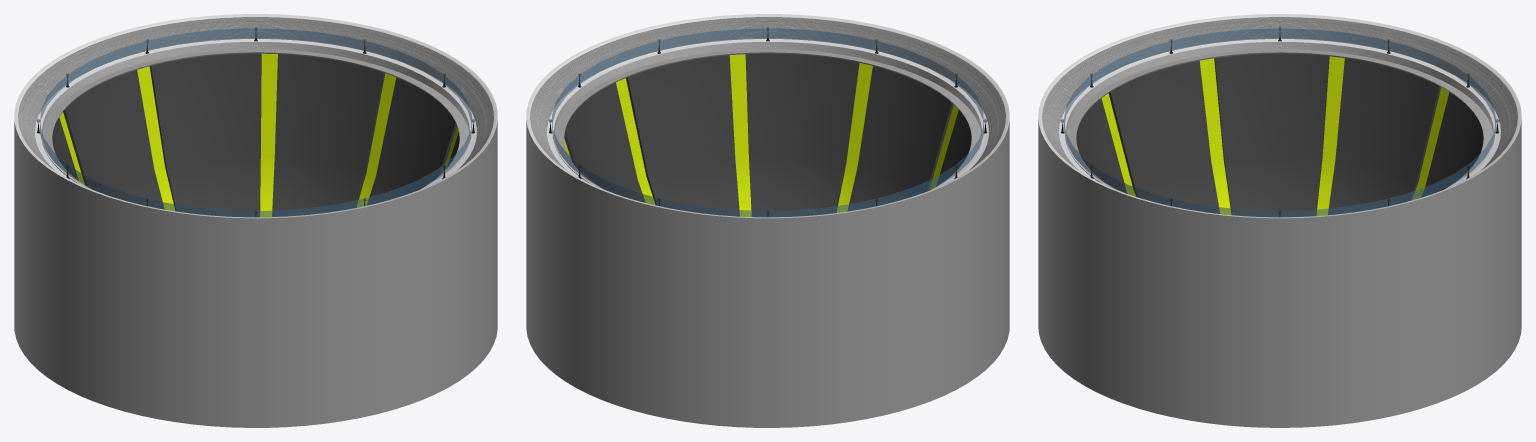
File: stadium.fbx
3 renders of one model, left to right at view 1: azimuth 30°, elevation 25°; view 2: azimuth 150°, elevation 25°; view 3: azimuth 270°, elevation 25°, orthographic.
Parts seen in each view (by area): view 1: arena; view 2: arena; view 3: arena.
Boxes of the visible parts, x1,y1,x2,y2 form: arena: (14, 14, 497, 427); arena: (526, 14, 1009, 427); arena: (1038, 14, 1521, 427).
Size of the model in its own units: 32.91 by 16.57 by 32.91.
